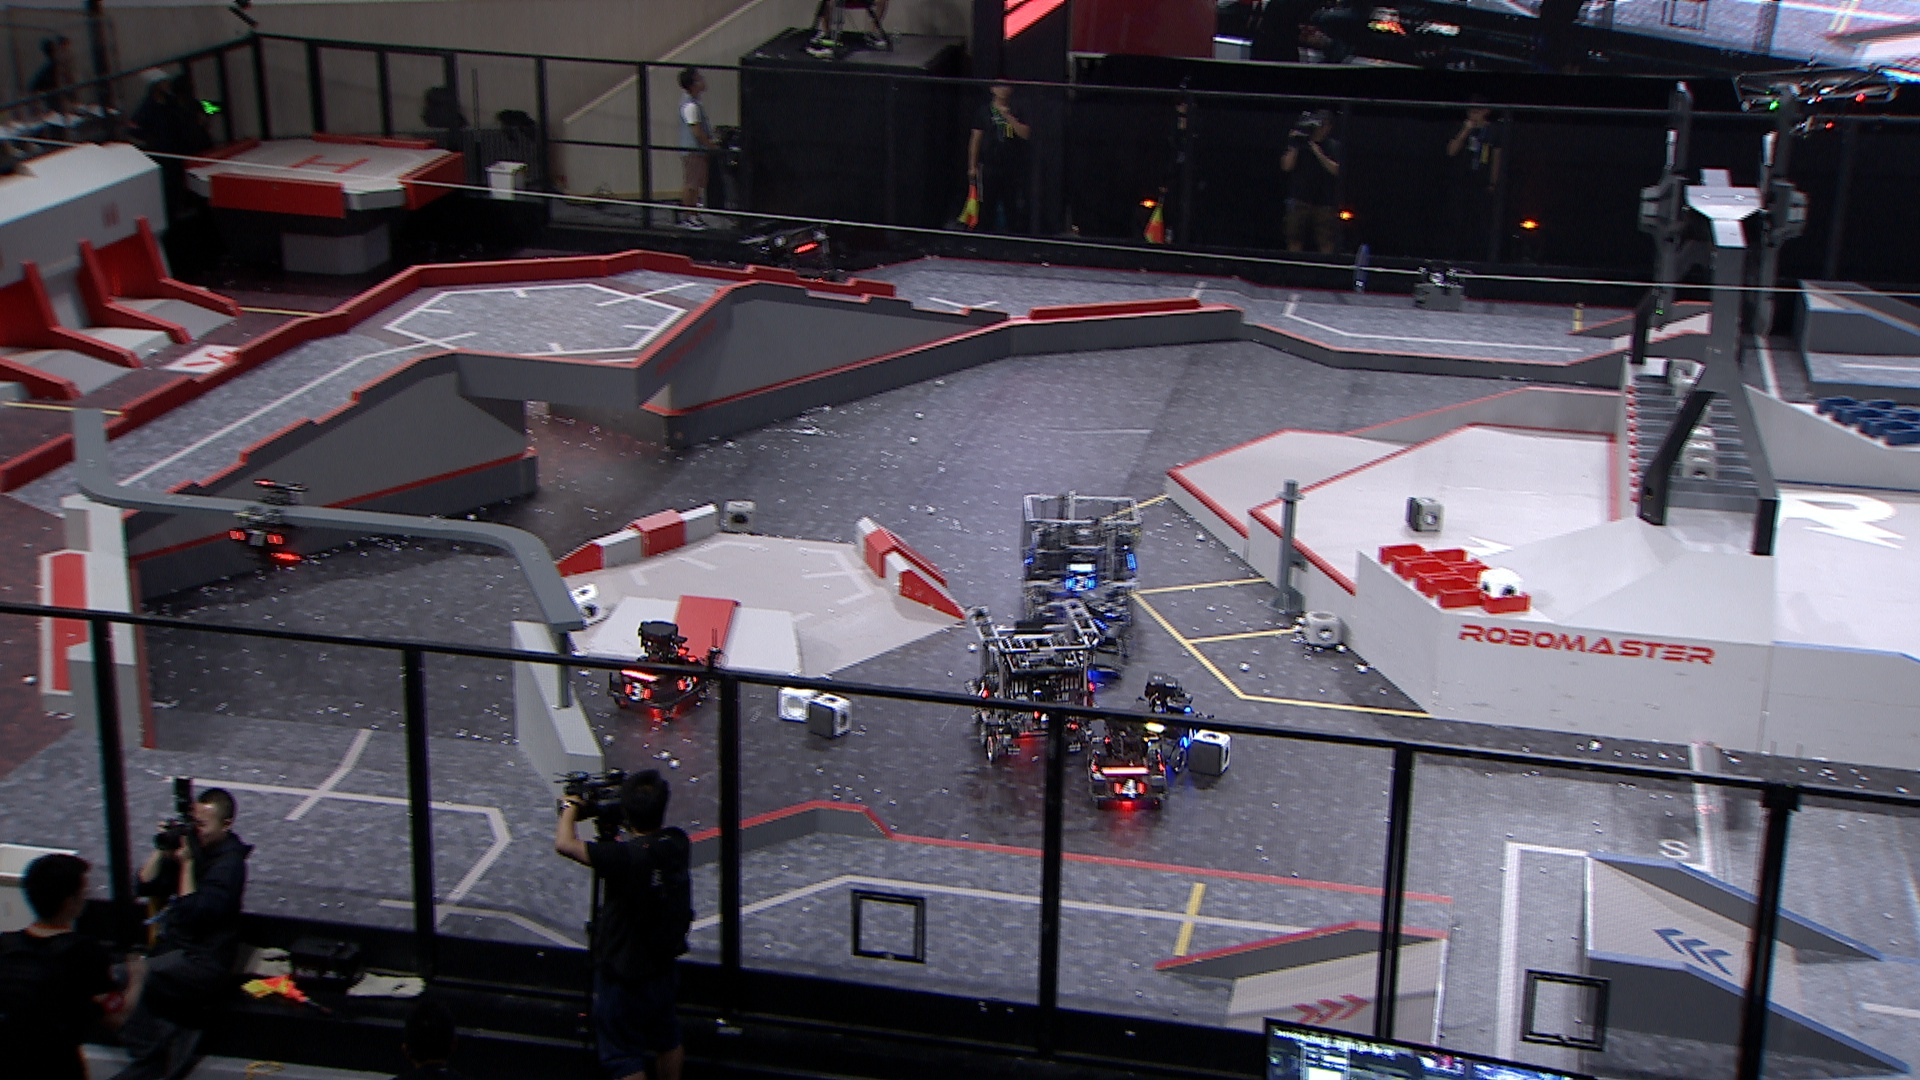armor: (228, 527, 285, 550), (622, 679, 654, 703), (1065, 572, 1093, 595), (1114, 778, 1145, 796), (676, 671, 699, 694), (1182, 727, 1200, 749), (975, 680, 992, 699), (1031, 708, 1051, 723), (1087, 756, 1098, 777)
car: (963, 597, 1102, 760), (1015, 491, 1141, 642), (604, 613, 723, 717), (1110, 670, 1215, 782), (733, 224, 843, 311), (1087, 709, 1171, 808)
watcher: (225, 479, 306, 567)
